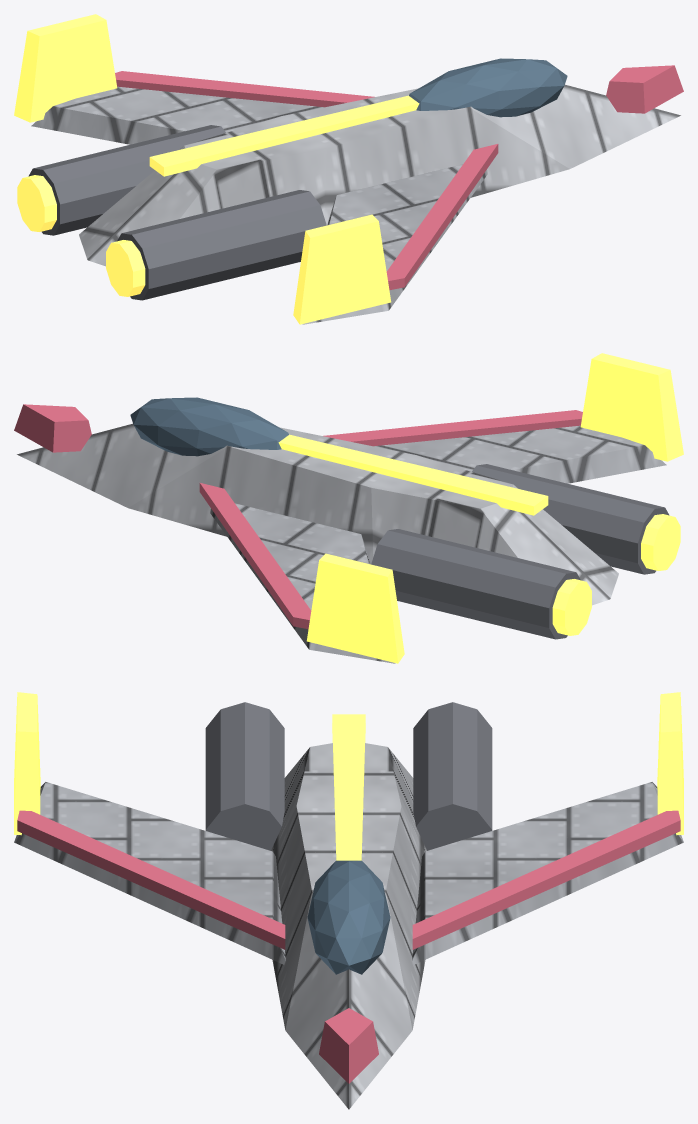
File: fighter_p4_ember.glb
3 views of the same model, one above another, from view 1: azimuth 30°, elevation 25°; view 2: azimuth 150°, elevation 25°; view 3: azimuth 270°, elevation 25° (orthographic). The views are drawn at different scales.
Size of the model in its own units: 12.3 by 2.17 by 10.
Materials: 6 (2 with a texture image).
